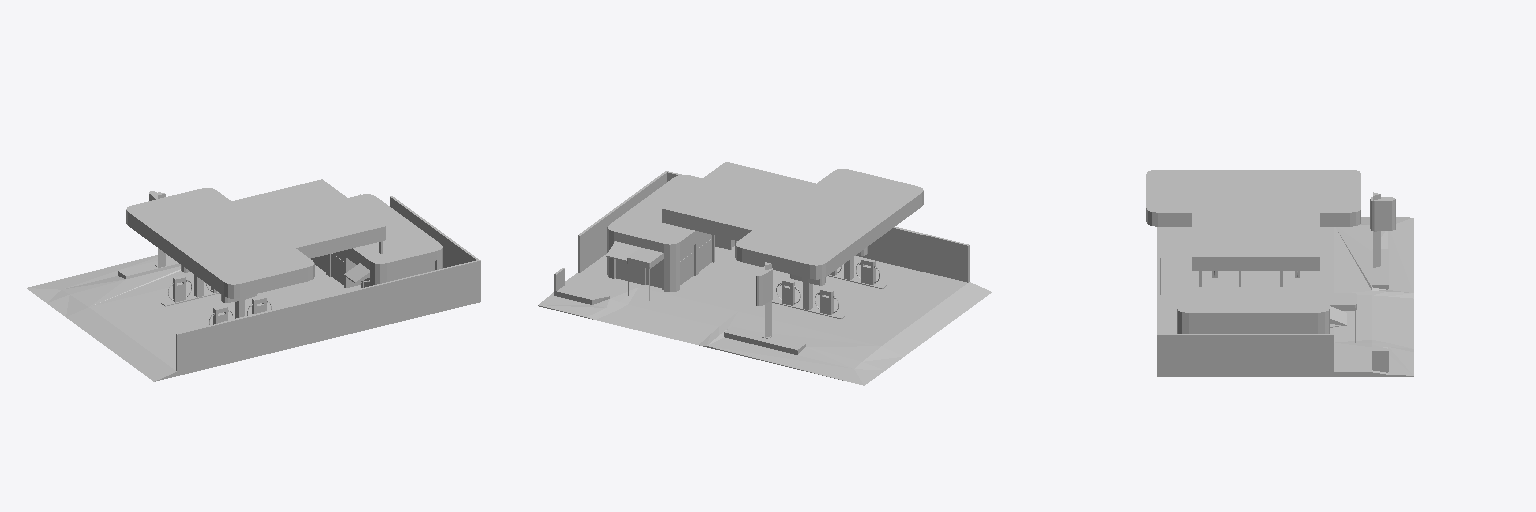
File: gas station.obj
3 renders of one model, left to right at view 1: azimuth 30°, elevation 25°; view 2: azimuth 150°, elevation 25°; view 3: azimuth 270°, elevation 25°, orthographic.
Visible parts, largest first — view 1: gas_station; view 2: gas_station; view 3: gas_station.
Boxes of the visible parts, x1,y1,x2,y2 form: gas_station: [27, 179, 480, 381]; gas_station: [538, 162, 991, 385]; gas_station: [1146, 170, 1413, 376].
Bounding box in the file's own units: 1452 × 350 × 1029.